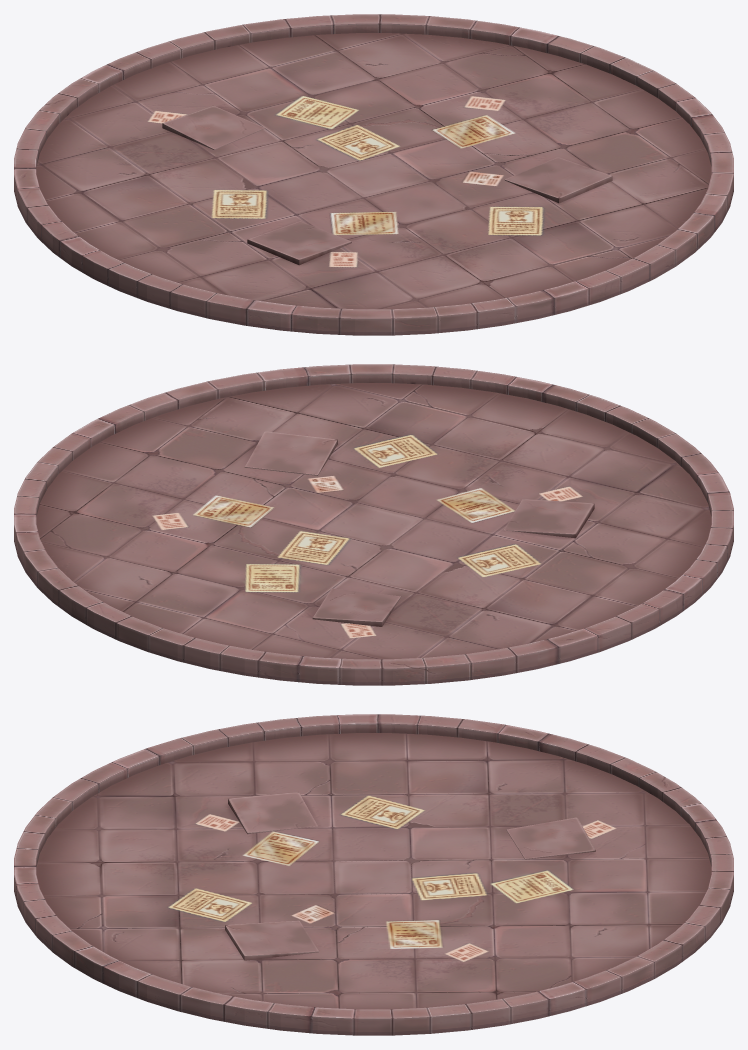
Rendered from Platform.FBX.
3 views of the same model, one above another, from view 1: azimuth 30°, elevation 25°; view 2: azimuth 150°, elevation 25°; view 3: azimuth 270°, elevation 25° (orthographic).
Parts seen in each view (by area): view 1: Platform; view 2: Platform; view 3: Platform.
Part boxes in pixels (<box>): Platform: <box>14,14,733,335</box>; Platform: <box>14,364,733,685</box>; Platform: <box>14,714,733,1035</box>.
Bounding box in the file's own units: 24.26 × 0.6292 × 24.26.
1 material, 1 textured.
